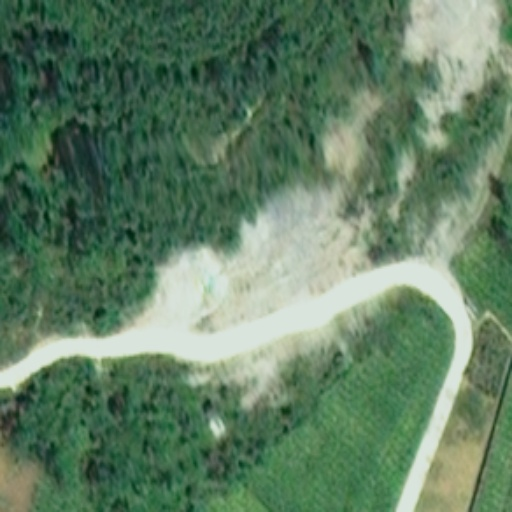landslide: (150, 4, 502, 320)
